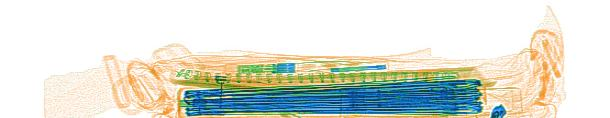USBFlashDisk: (234, 59, 300, 78)
